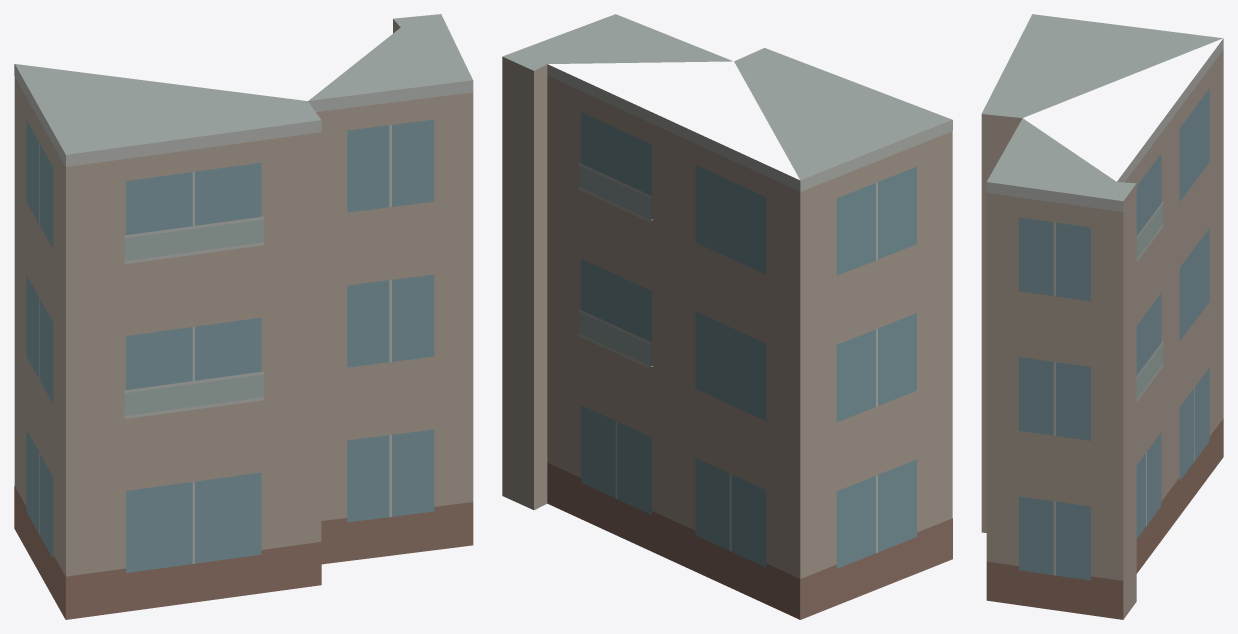
Rendered from survey-upis-32724427.glb.
The picture shows the model from 3 angles, left to right: view 1: azimuth 30°, elevation 25°; view 2: azimuth 150°, elevation 25°; view 3: azimuth 270°, elevation 25°; orthographic projection. The views are drawn at different scales.
Parts seen in each view (by area): view 1: survey-upis-32724427.tmp; view 2: survey-upis-32724427.tmp; view 3: survey-upis-32724427.tmp.
Boxes of the visible parts, x1=… form: survey-upis-32724427.tmp: x1=14, y1=14, x2=473, y2=619; survey-upis-32724427.tmp: x1=502, y1=14, x2=952, y2=619; survey-upis-32724427.tmp: x1=981, y1=14, x2=1223, y2=619.
Bounding box in the file's own units: 9.03 × 9.4 × 4.94.
